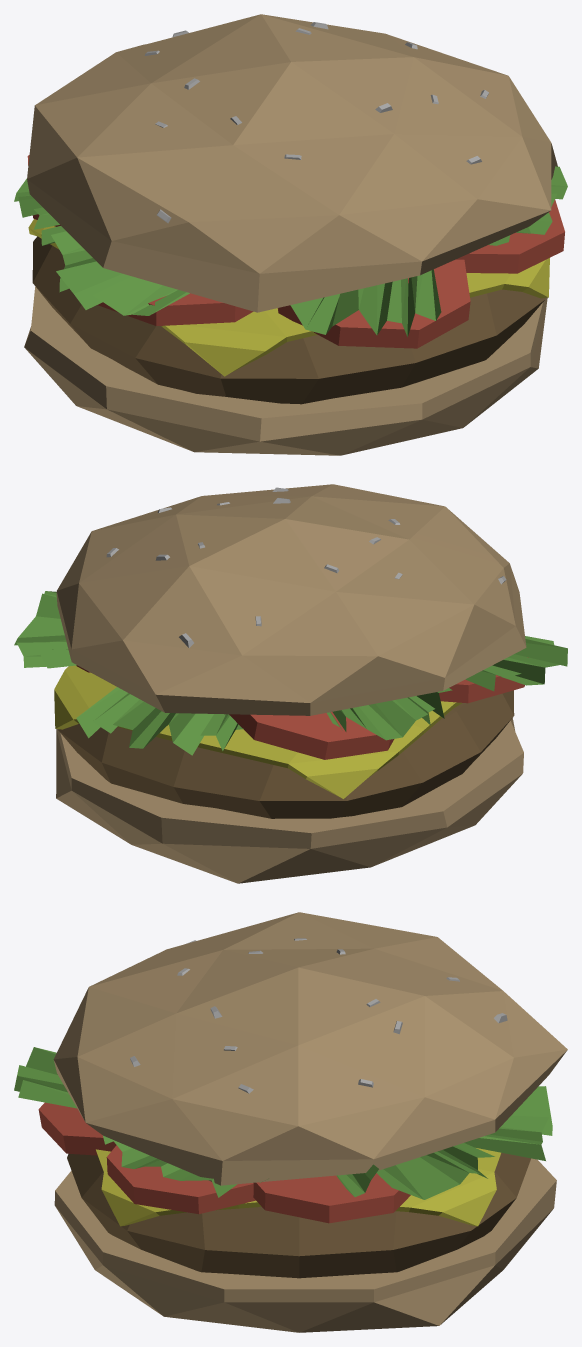
File: Burger.glb
3 renders of one model, top to bottom at view 1: azimuth 30°, elevation 25°; view 2: azimuth 150°, elevation 25°; view 3: azimuth 270°, elevation 25°, orthographic. The views are drawn at different scales.
Parts seen in each view (by area): view 1: LightYellow, Brown, LightGreen, Red, Cheese, White; view 2: LightYellow, Brown, LightGreen, Cheese, Red, White; view 3: LightYellow, Brown, Red, LightGreen, Cheese, White.
Boxes of the visible parts, <box> form: LightYellow: <box>24,14,557,455</box>; Brown: <box>32,236,545,404</box>; LightGreen: <box>14,166,567,337</box>; Red: <box>27,155,564,348</box>; Cheese: <box>28,219,549,376</box>; White: <box>144,22,488,223</box>; LightYellow: <box>56,484,526,883</box>; Brown: <box>58,690,514,818</box>; LightGreen: <box>14,591,567,755</box>; Cheese: <box>54,665,461,798</box>; Red: <box>76,657,528,759</box>; White: <box>106,487,506,647</box>; LightYellow: <box>53,912,567,1332</box>; Brown: <box>67,1153,530,1278</box>; Red: <box>38,1102,410,1223</box>; LightGreen: <box>14,1047,552,1199</box>; Cheese: <box>96,1148,501,1226</box>; White: <box>130,938,507,1093</box>.
Size of the model in its own units: 1.65 by 1.07 by 1.7.
